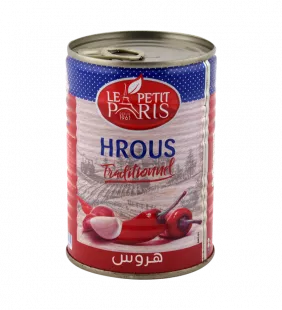LE PETIT PARIS: (59, 20, 228, 284)
